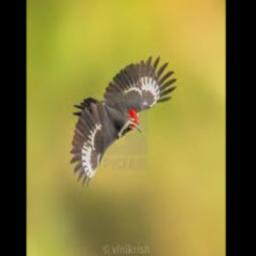Woodpecker: (69, 56, 177, 187)
